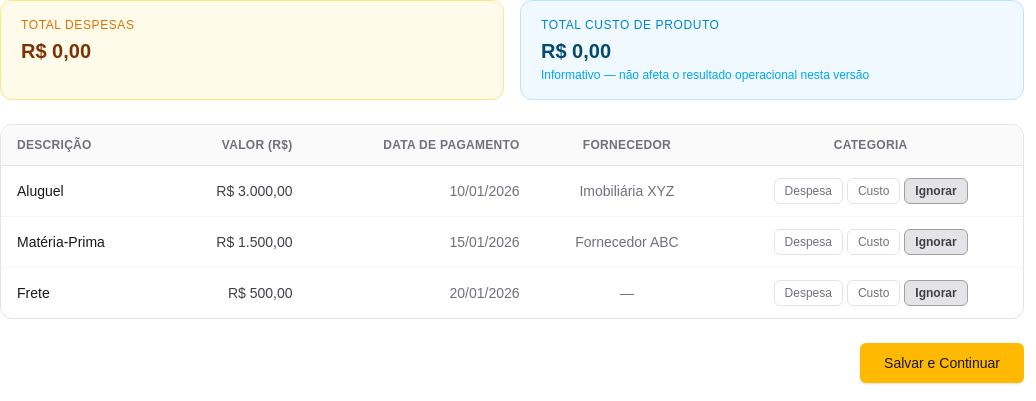
Test case: PaidAccountsList › real-time totals (AC: 4) › updates Custo de Produto total in real-time
The image size is (1036, 401).
Click the radio button with aria-label "Custo de Produto". click: (874, 242)
box: [847,229,900,255]
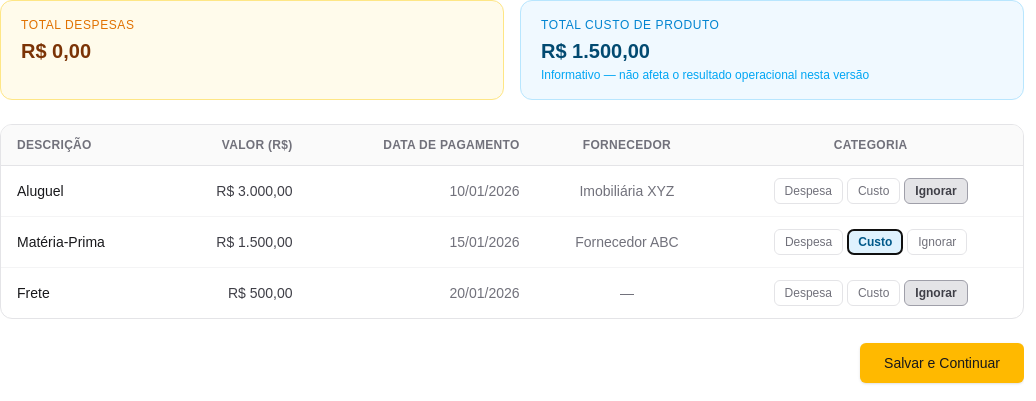
Now the text named "Total custo de produto:" shows "1.500", box [541,40,650,62]
